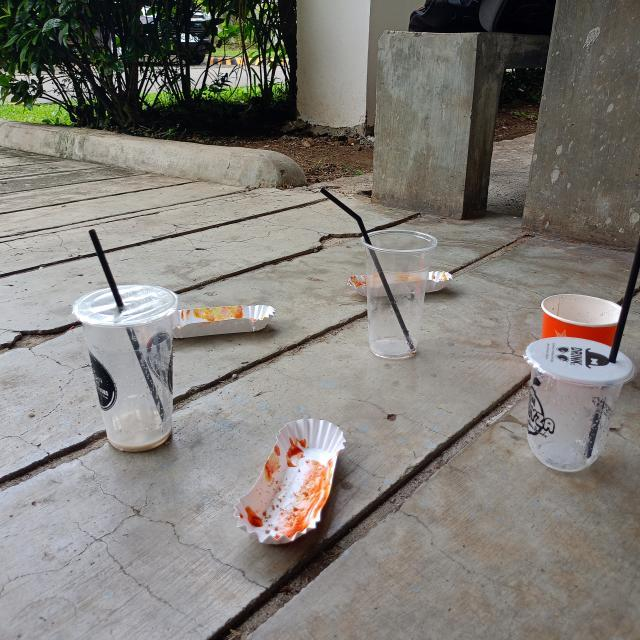recyclable waste: (67, 266, 190, 470), (213, 406, 382, 554), (508, 328, 640, 480), (341, 210, 446, 366), (335, 252, 466, 312), (164, 290, 282, 350), (532, 283, 631, 347)
